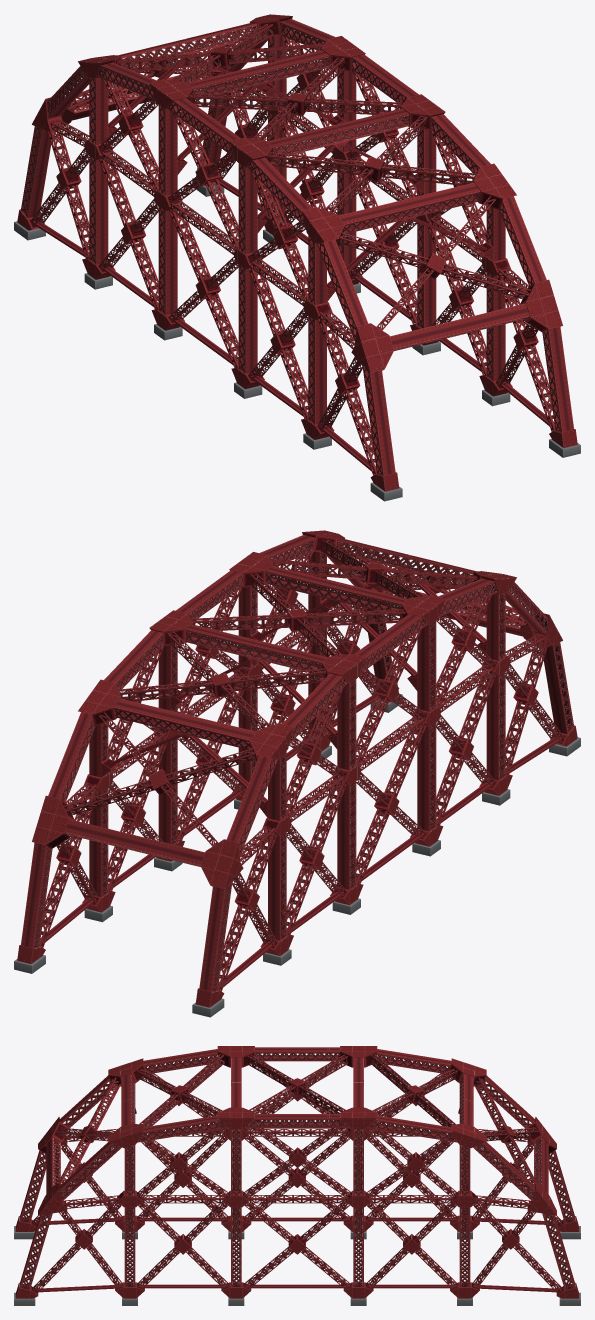
Rendered from Scene_Bridge.FBX.
3 renders of one model, top to bottom at view 1: azimuth 30°, elevation 25°; view 2: azimuth 150°, elevation 25°; view 3: azimuth 270°, elevation 25°, orthographic. The views are drawn at different scales.
Visible parts, largest first — view 1: Scene_Bridge; view 2: Scene_Bridge; view 3: Scene_Bridge.
Part boxes in pixels (x1,y1,x2,y2): Scene_Bridge: (14,14,580,501); Scene_Bridge: (14,530,580,1017); Scene_Bridge: (14,1046,580,1305).
Bounding box in the file's own units: 980 × 1167 × 3200.
